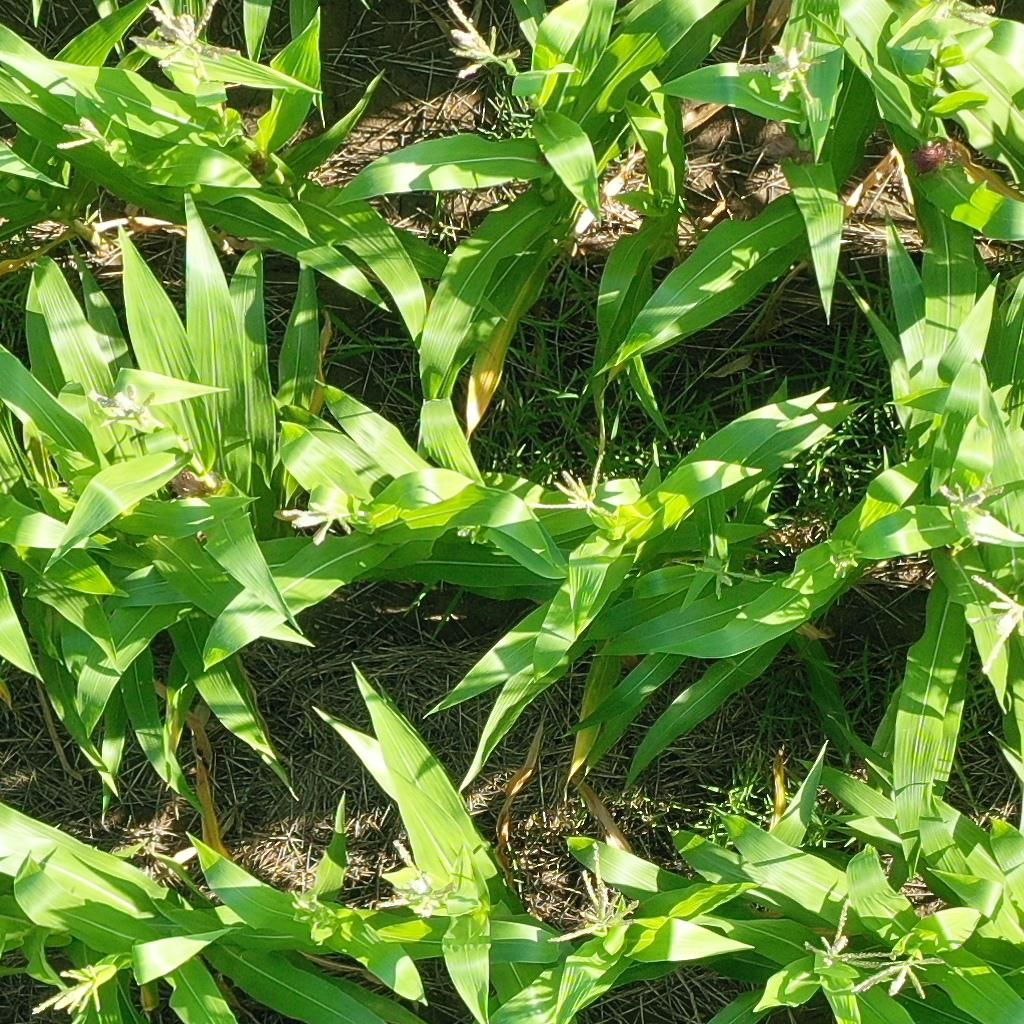Tassel: (545, 837, 642, 949), (800, 893, 894, 974), (957, 569, 1024, 682), (435, 1, 521, 81), (144, 1, 223, 85), (527, 443, 607, 516), (376, 837, 447, 918), (848, 948, 952, 1000), (271, 499, 365, 546), (25, 964, 105, 1016), (770, 29, 820, 110), (93, 382, 159, 430), (939, 472, 1004, 516), (928, 1, 997, 34), (56, 115, 110, 154), (287, 888, 336, 922), (832, 554, 865, 578)
